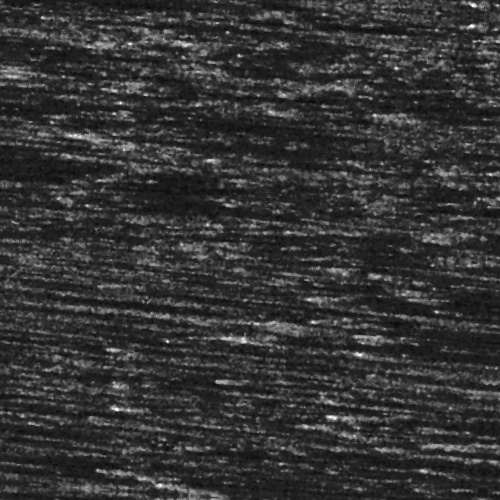shadow: (0, 2, 197, 11), (0, 411, 64, 428), (0, 468, 108, 477)
